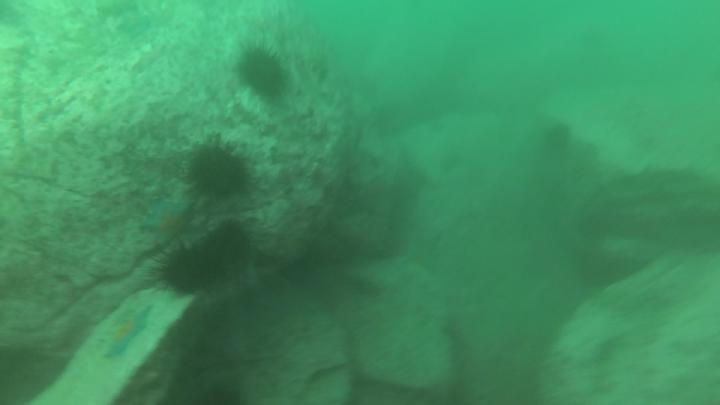echinus: (183, 138, 255, 207), (150, 237, 220, 305), (235, 39, 291, 109), (540, 121, 576, 154)
starfish: (137, 196, 199, 251), (99, 307, 151, 366)
